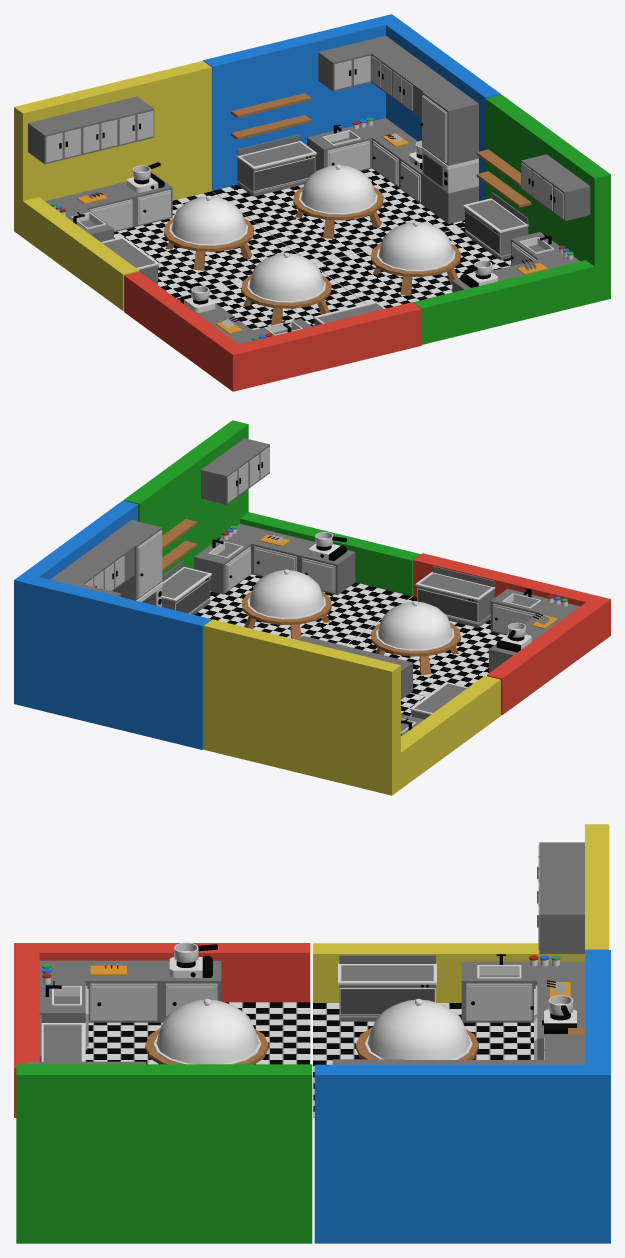
The model's file is Kitchen (1).fbx.
The picture shows the model from 3 angles, top to bottom: view 1: azimuth 30°, elevation 25°; view 2: azimuth 150°, elevation 25°; view 3: azimuth 270°, elevation 25°; orthographic projection. The views are drawn at different scales.
Parts seen in each view (by area): view 1: Blue, Yellow, Green, Red, Top Cabbinet, topcabinet, Oven, top Cabinet, takep.002, takep.003, takep, takep.001 (+9 smaller); view 2: Yellow, Blue, Green, Red, oven.001, top Cabinet, Top Cabbinet, takep.001, takep.003, oven, La mesa.003, topcabinet (+3 smaller); view 3: Blue, Green, Red, Yellow, oven.002, topcabinet, takep.001, takep.002, Top Cabbinet, oven.001, stobe, La mesa.002 (+3 smaller).
Boxes of the visible parts, box(x1,y1,x2,y2) form: Blue: box(203, 14, 500, 263); Yellow: box(14, 61, 298, 310); Green: box(315, 94, 610, 344); Red: box(124, 271, 421, 391); Top Cabbinet: box(318, 35, 452, 118); topcabinet: box(28, 96, 154, 164); Oven: box(236, 134, 316, 196); top Cabinet: box(521, 154, 590, 221); takep.002: box(171, 195, 245, 244); takep.003: box(379, 221, 453, 269); takep: box(301, 164, 375, 213); takep.001: box(249, 252, 323, 301); Yellow: box(203, 619, 500, 795); Blue: box(14, 500, 211, 749); Green: box(123, 420, 420, 645); Red: box(345, 553, 610, 715); oven.001: box(415, 566, 495, 627); top Cabinet: box(201, 438, 269, 504); Top Cabbinet: box(50, 539, 134, 596); takep.001: box(378, 601, 452, 649); takep.003: box(249, 569, 323, 617); oven: box(162, 561, 211, 614); La mesa.003: box(242, 591, 331, 639); topcabinet: box(298, 636, 412, 699); Blue: box(314, 950, 610, 1243); Green: box(16, 1064, 312, 1243); Red: box(14, 943, 310, 1117); Yellow: box(313, 824, 609, 1117); oven.002: box(338, 955, 436, 1021); topcabinet: box(537, 842, 584, 953); takep.001: box(156, 999, 258, 1064); takep.002: box(367, 999, 469, 1059); Top Cabbinet: box(403, 1034, 585, 1064); oven.001: box(39, 1015, 85, 1061); stobe: box(169, 955, 212, 977); La mesa.002: box(145, 1028, 268, 1064).
Size of the model in its own units: 401 by 126 by 403.
17 materials, 1 textured.
